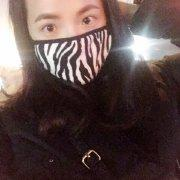OK: (30, 3, 115, 88)
